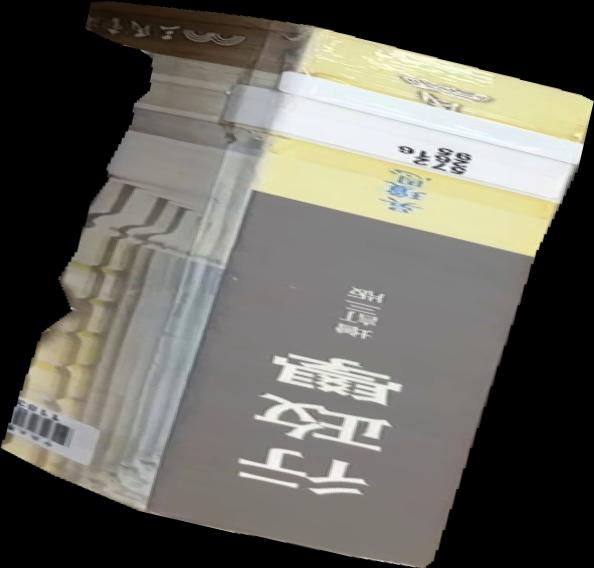reverse: (1, 1, 594, 568)
